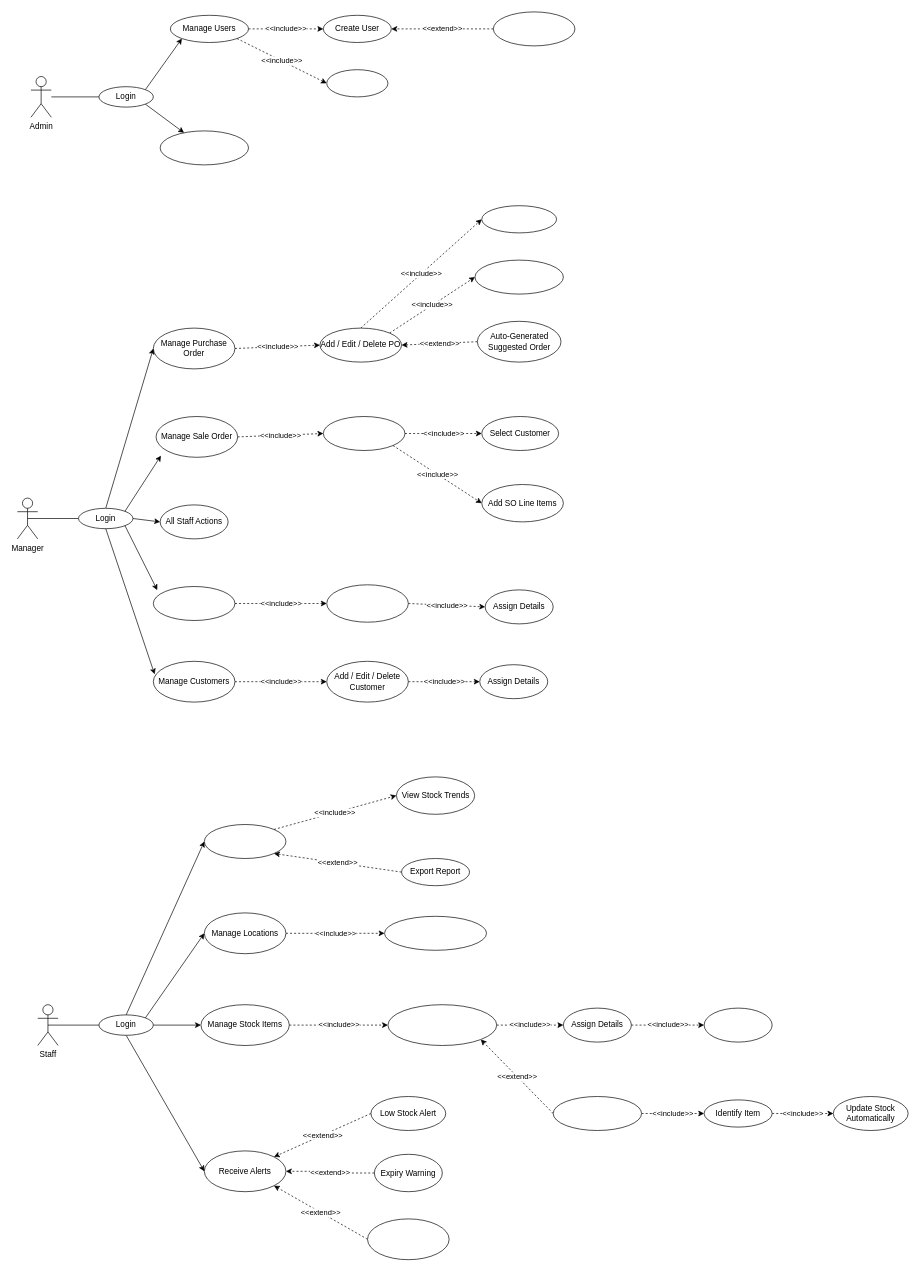
Some shapes in this 920 by 1272 pixel diagram are drawn without their labels. Here are the shapes that lost their labels. From the top down, the centre of each, then its label:
the point at 534,28: Display Error (if invalid details)
the point at 357,83: Assign Role
the point at 204,147: All Manager Actions
the point at 519,219: Select Supplier
the point at 518,276: Add PO Line Items
the point at 364,433: Add / Edit / Delete SO
the point at 194,603: Manage Suppliers
the point at 367,603: Add / Edit / Delete Supplier
the point at 245,841: View Dashboard
the point at 435,933: Add / Edit / Remove Location
the point at 442,1025: Add / Edit /Remove Stock
the point at 737,1024: Assign Location
the point at 597,1113: Scan Barcode
the point at 408,1239: Predictive Stock Alert
